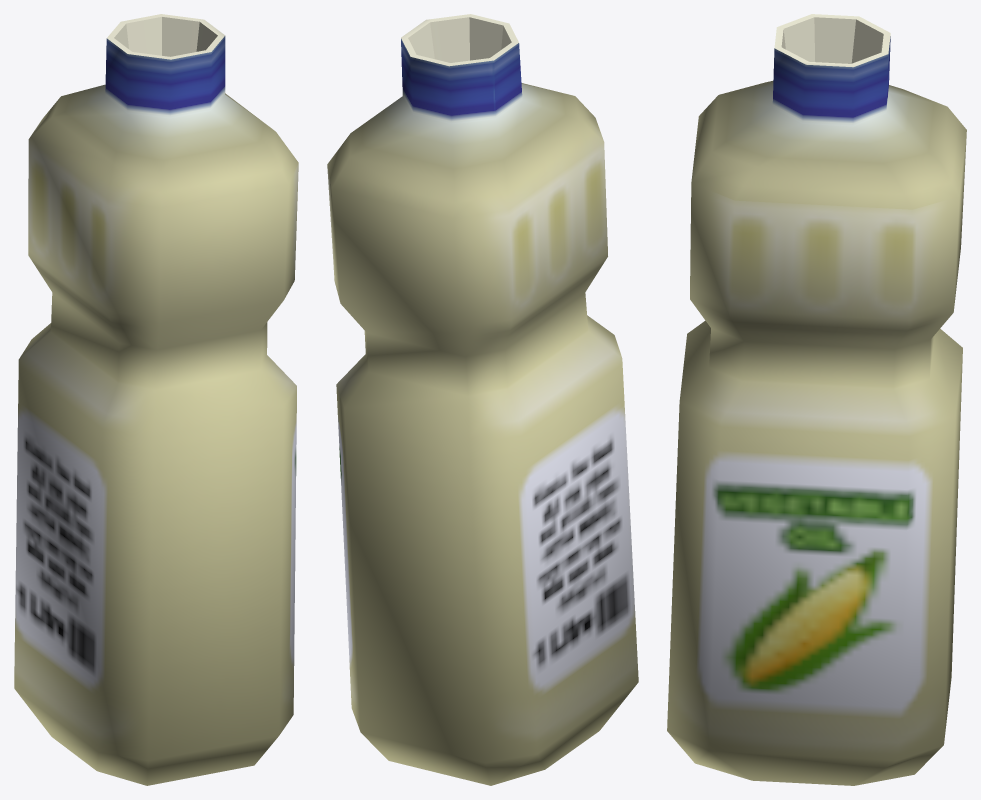
File: H_OilBottleVanila.fbx
The picture shows the model from 3 angles, left to right: view 1: azimuth 30°, elevation 25°; view 2: azimuth 150°, elevation 25°; view 3: azimuth 270°, elevation 25°; orthographic projection. The views are drawn at different scales.
Visible parts, largest first — view 1: OilVegetable; view 2: OilVegetable; view 3: OilVegetable.
Boxes of the visible parts, bbox=[...] form: OilVegetable: bbox=[14, 14, 298, 785]; OilVegetable: bbox=[327, 14, 638, 785]; OilVegetable: bbox=[667, 14, 966, 785].
Size of the model in its own units: 10.79 by 33.26 by 12.55.
